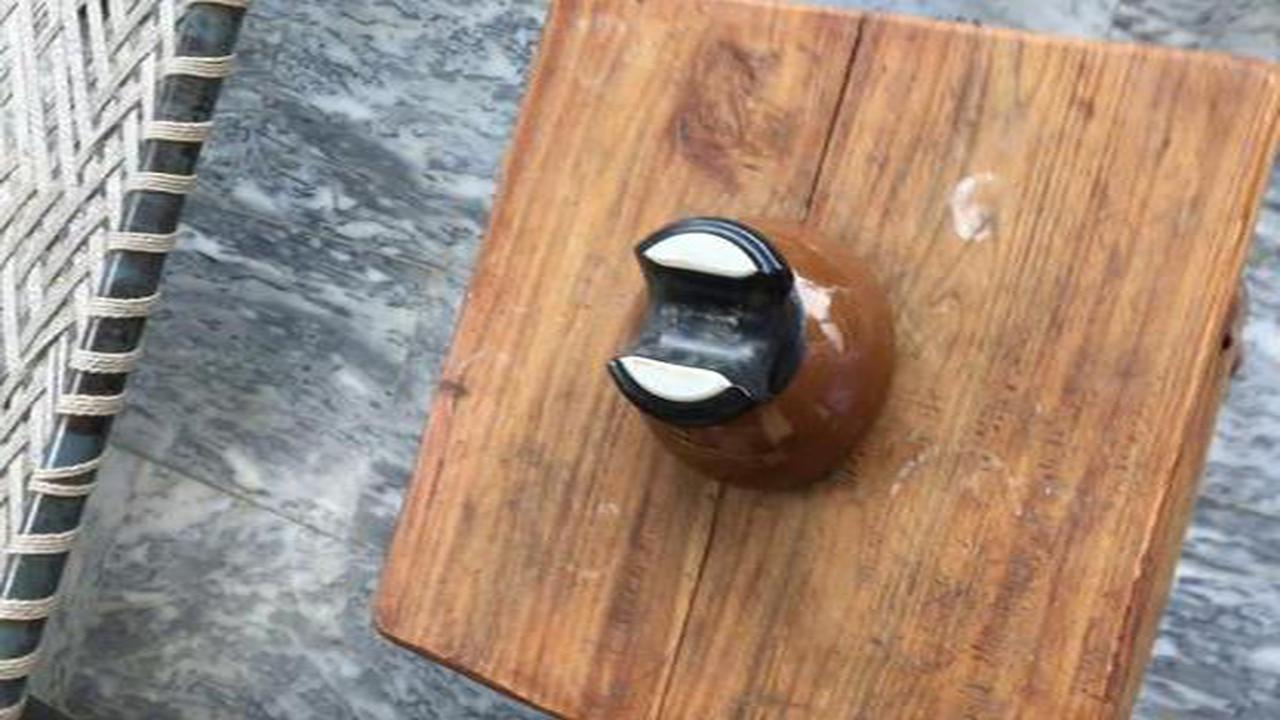insulator_pin: (585, 200, 921, 509)
